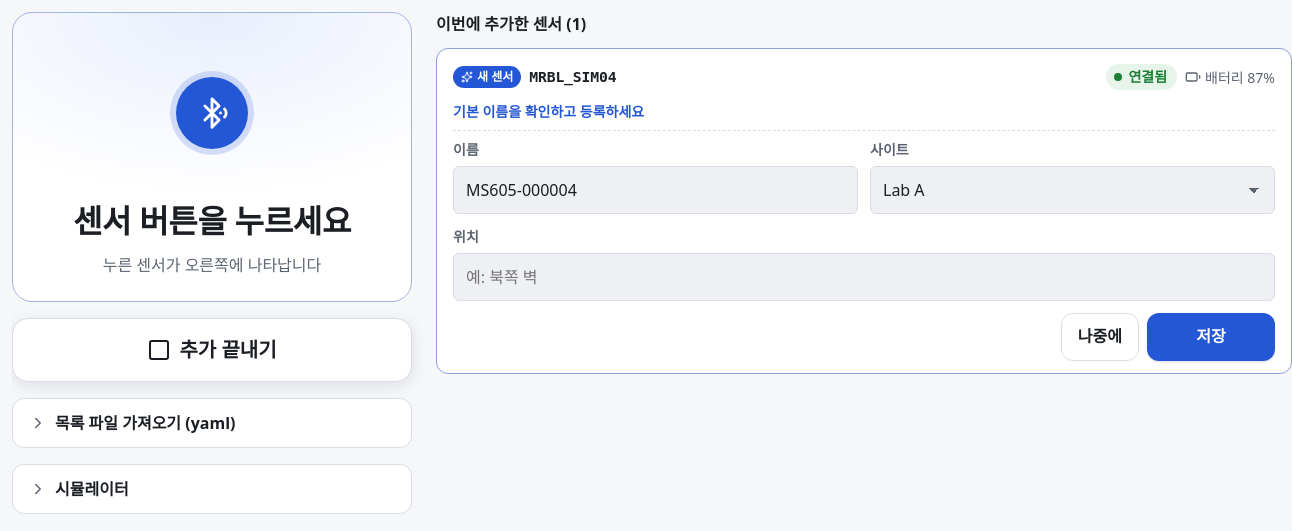
Scenario: GatherScreen › a 409 says another screen registered it first and folds the form
The width and height of the screenshot is (1292, 531).
Expected: the dropdown labelled "사이트" shows "Lab A", [870,166,1275,214]
What coordinates should you click on to do the following:
click the button "저장"
I would click on:
 (1211, 337)
Its box is [1147,313,1275,361].
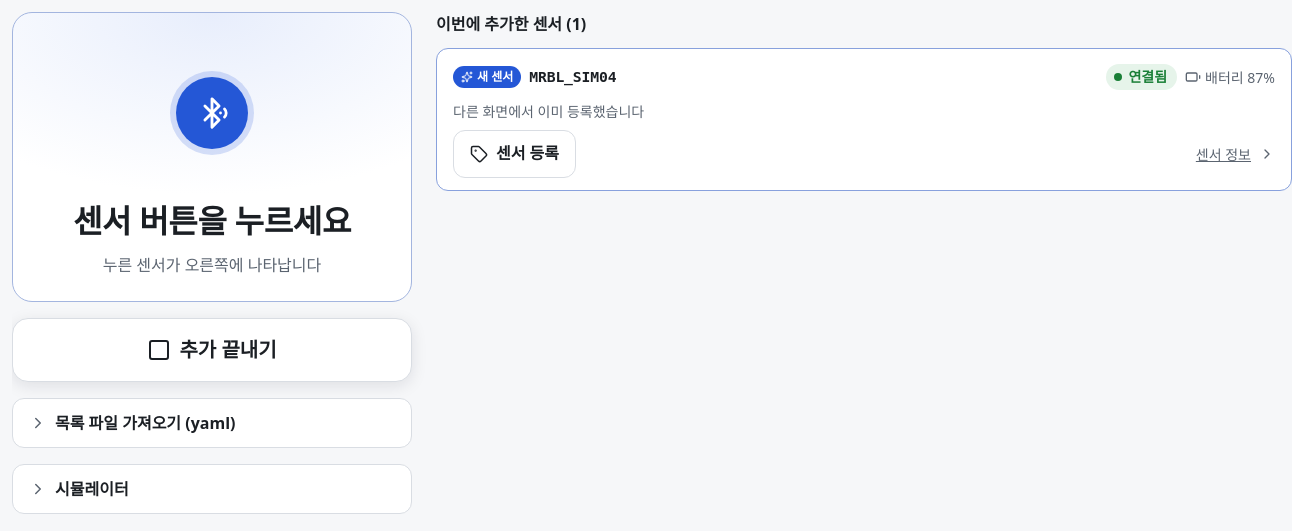
Now the text "다른 화면에서 이미 등록했습니다" is shown, box [453,102,644,121]
Now the button "저장" is gone
